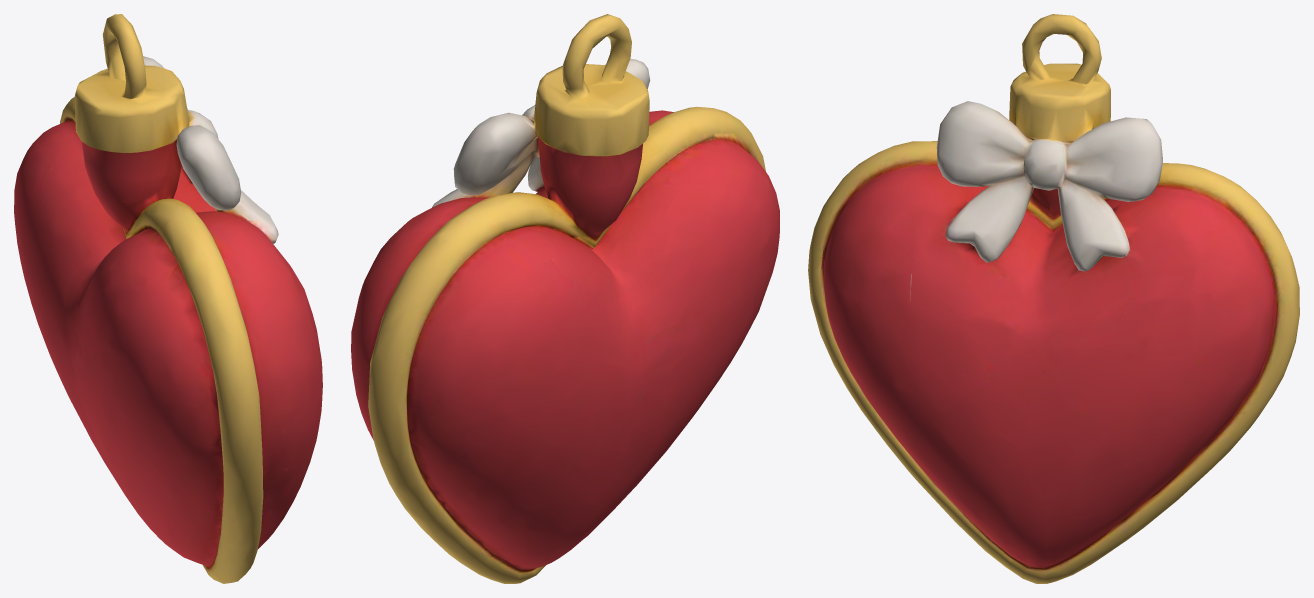
File: orn_heart.glb
3 renders of one model, left to right at view 1: azimuth 30°, elevation 25°; view 2: azimuth 150°, elevation 25°; view 3: azimuth 270°, elevation 25°, orthographic. The views are drawn at different scales.
Parts seen in each view (by area): view 1: tripo_node_163e0da4-fafe-455c-9f42-edc1302e29e0; view 2: tripo_node_163e0da4-fafe-455c-9f42-edc1302e29e0; view 3: tripo_node_163e0da4-fafe-455c-9f42-edc1302e29e0.
Part boxes in pixels (x1,y1,x2,y2): tripo_node_163e0da4-fafe-455c-9f42-edc1302e29e0: (14,14,322,583); tripo_node_163e0da4-fafe-455c-9f42-edc1302e29e0: (351,14,779,583); tripo_node_163e0da4-fafe-455c-9f42-edc1302e29e0: (808,14,1299,583).
Size of the model in its own units: 0.4546 by 1 by 0.8475.
1 material, 1 textured.
